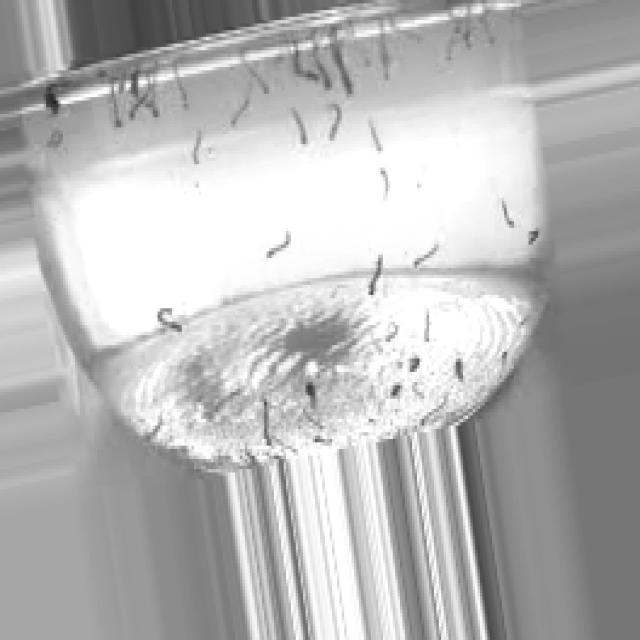larvas: (127, 67, 164, 124), (326, 22, 349, 94), (126, 79, 164, 122), (446, 0, 473, 48), (312, 35, 331, 97), (44, 82, 76, 115), (244, 53, 269, 94), (290, 41, 312, 84), (172, 62, 190, 109), (265, 229, 292, 260), (391, 15, 422, 42), (421, 395, 446, 428), (230, 91, 252, 128), (110, 76, 124, 130), (157, 306, 182, 333), (416, 242, 440, 269), (352, 32, 369, 68), (193, 122, 205, 169), (369, 257, 383, 296), (328, 100, 342, 138), (291, 107, 306, 142), (480, 14, 495, 49), (305, 408, 323, 432), (443, 36, 458, 64), (500, 199, 514, 227), (380, 30, 388, 78), (264, 397, 272, 444), (149, 418, 165, 441), (370, 122, 382, 151), (381, 167, 391, 199), (44, 130, 63, 146), (409, 378, 423, 399), (386, 319, 398, 343), (306, 378, 316, 406), (312, 436, 334, 447), (455, 357, 464, 382), (409, 358, 422, 374), (530, 228, 541, 246), (392, 386, 404, 400), (426, 308, 430, 344)
